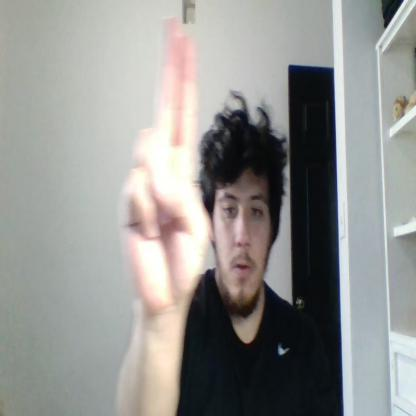U: (118, 18, 211, 312)
